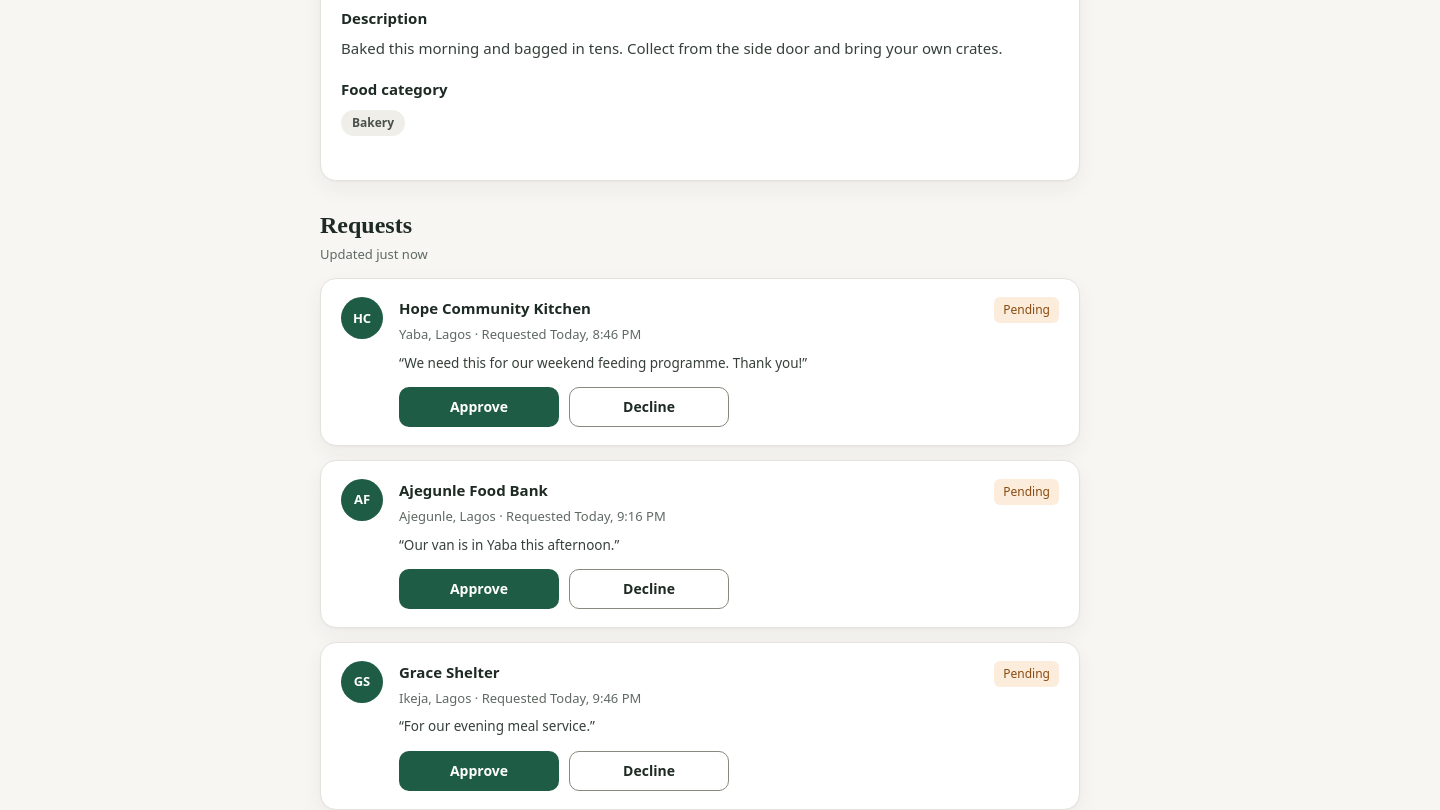
Listing details (donor): approving › asks first, naming who gets the food and how many others are declined
(page scrolled)
expect the heading "Hope Community Kitchen" is shown: met, box top-left (399, 297), bottom-right (591, 320)
Click the button "Approve" below "Yaba, Lagos ·" at (479, 407), box top-left (399, 387), bottom-right (559, 427)
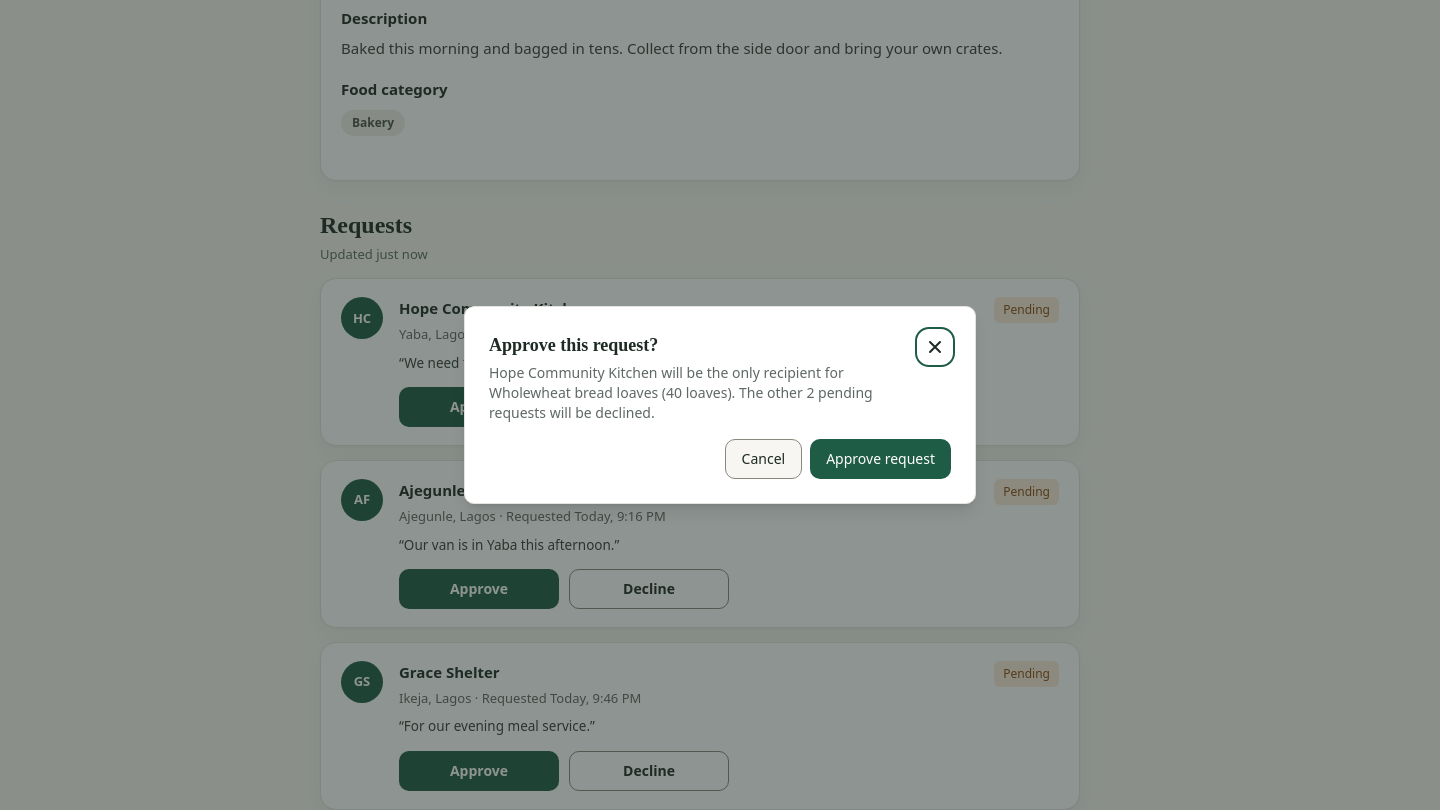
Click the button "Cancel" at (763, 459), box top-left (725, 439), bottom-right (802, 479)
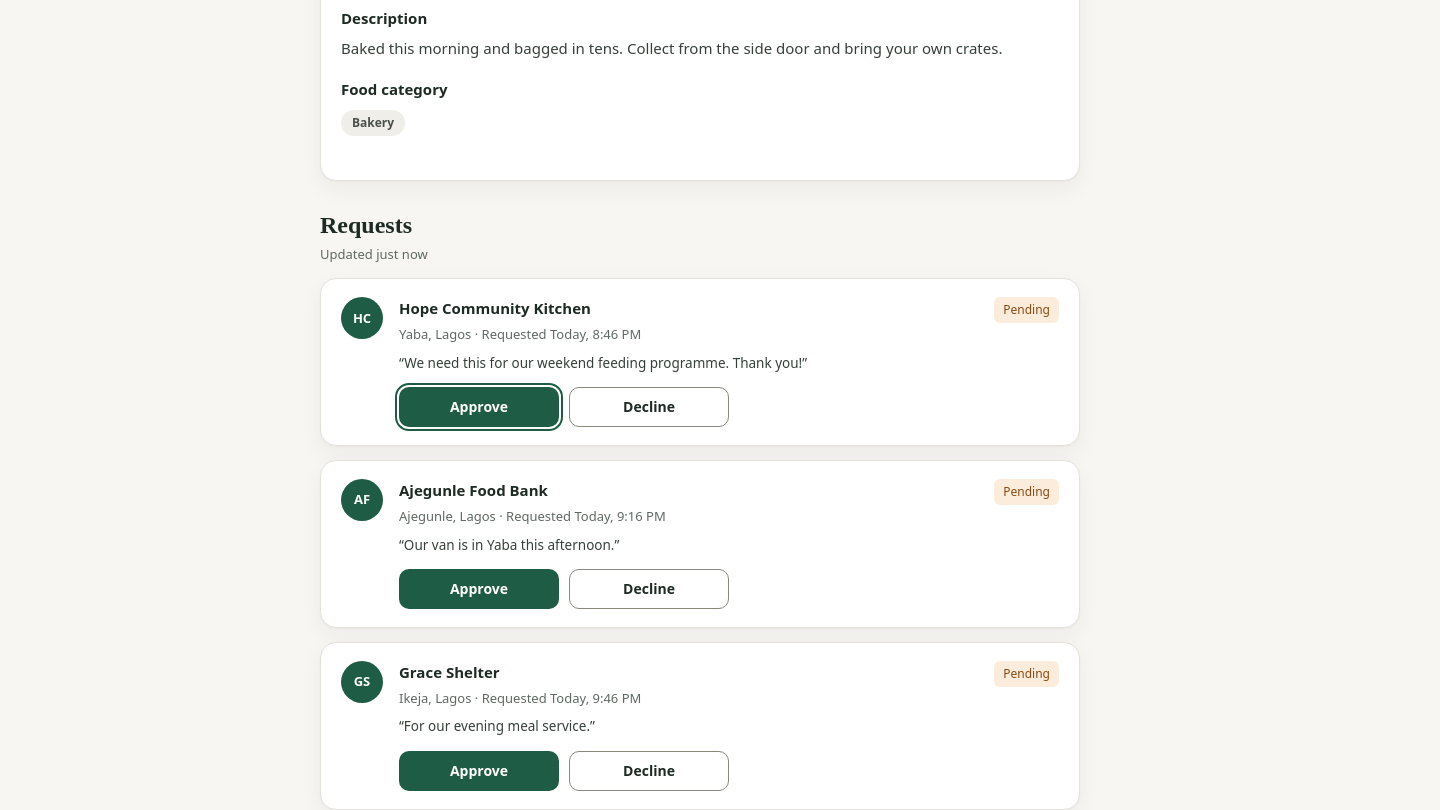
expect the text "Pending" in the row of "Hope Community Kitchen" is shown: met, box top-left (1003, 301), bottom-right (1050, 318)
expect the dialog is gone: met
